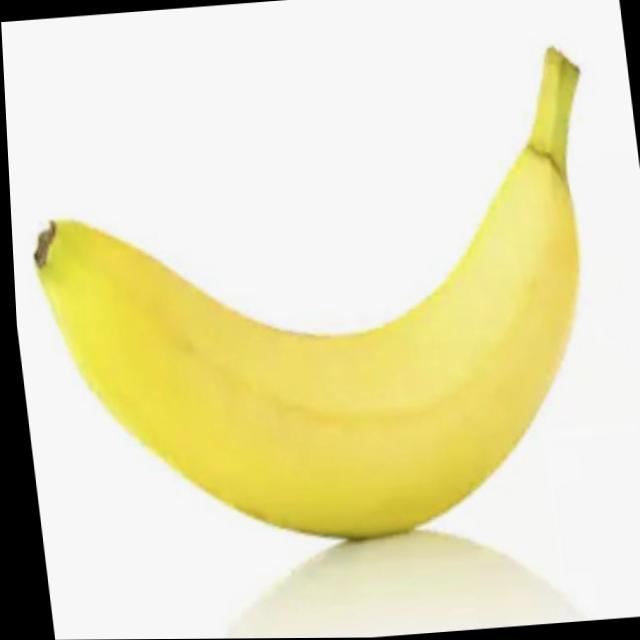Banana: (9, 42, 632, 563)
